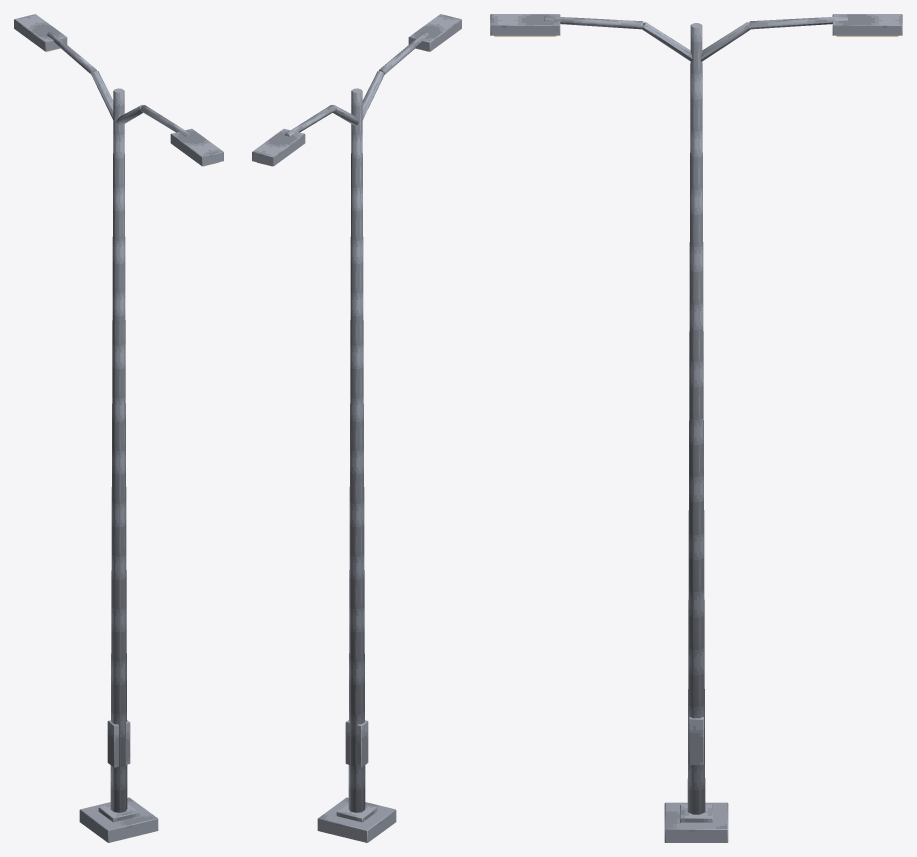
File: modern_street_lamp_1.glb
3 renders of one model, left to right at view 1: azimuth 30°, elevation 25°; view 2: azimuth 150°, elevation 25°; view 3: azimuth 270°, elevation 25°, orthographic. The views are drawn at different scales.
Parts seen in each view (by area): view 1: modern_street_lamp_2; view 2: modern_street_lamp_2; view 3: modern_street_lamp_2.
Part boxes in pixels (x1,y1,x2,y2): modern_street_lamp_2: (14,14,223,842); modern_street_lamp_2: (252,14,461,842); modern_street_lamp_2: (490,14,902,842).
Size of the model in its own units: 0.5 by 7.08 by 3.25.
Materials: 3 (3 with a texture image).
